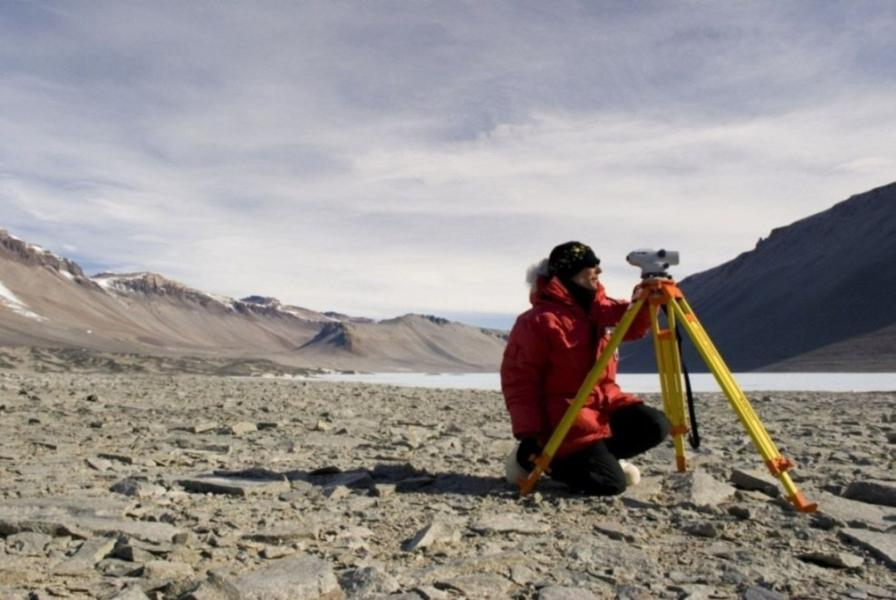person: (499, 244, 678, 500)
